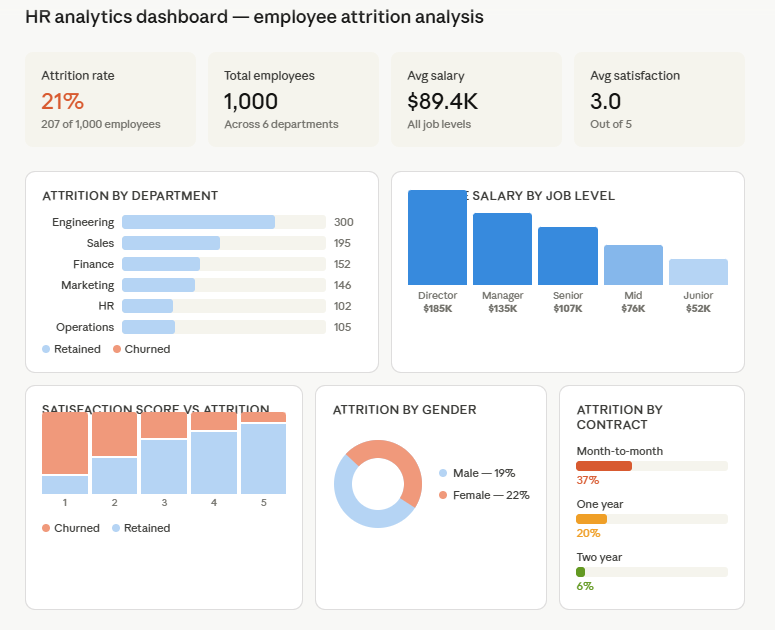

What the dashboard file says about the page in this screenshot:
{"tool":"powerbi","page":{"name":"Page 1","canvas":[1280,720],"ordinal":0},"visuals":[{"type":"cardVisual","title":"   Attrition Rate","fields":{"Data":["Avg(hr_data.attrition)"]},"box":[0,93.3,279.9,150.9],"z":0},{"type":"clusteredBarChart","title":"Attrition by Department","fields":{"Category":["hr_data.department"],"Series":["hr_data.attrition_label"],"Y":["CountNonNull(hr_data.employee_id)"]},"box":[28.8,473.4,529.7,247],"z":1000},{"type":"clusteredColumnChart","title":"Salary by Job Level","fields":{"Category":["hr_data.job_level"],"Y":["Avg(hr_data.salary)"]},"box":[39.8,256.6,518.7,150.9],"z":2000},{"type":"clusteredColumnChart","title":" Satisfaction vs Attrition","fields":{"Category":["hr_data.satisfaction_score"],"Y":["CountNonNull(hr_data.employee_id)"],"Series":["hr_data.attrition_label"]},"box":[623,256.6,557.1,164.7],"z":3000},{"type":"donutChart","title":"Attrition by Gender","fields":{"Category":["hr_data.gender"],"Y":["Avg(hr_data.attrition)"]},"box":[623,473.4,577.7,247],"z":4000},{"type":"textbox","box":[270.3,31.6,994.9,61.7],"z":5000},{"type":"cardVisual","title":"Total Employees","fields":{"Data":["CountNonNull(hr_data.employee_id)"]},"box":[300.5,93.3,279.9,150.9],"z":6000},{"type":"cardVisual","title":"Avg Salary","fields":{"Data":["Avg(hr_data.salary)"]},"box":[623,93.3,279.9,150.9],"z":7000},{"type":"cardVisual","title":"Avg Satisfaction","fields":{"Data":["Avg(hr_data.satisfaction_score)"]},"box":[940,93.3,279.9,150.9],"z":8000}]}

Visuals, with their boxes on the page's 1280x720 design canvas (x1, y1, x2, y2). These are canvas units, not pixel positions in the 775x630 screenshot, which may show the page scaled, cropped or inside an application window:
"   Attrition Rate" cardVisual: bbox(0, 93, 280, 244)
"Attrition by Department" clusteredBarChart: bbox(29, 473, 558, 720)
"Salary by Job Level" clusteredColumnChart: bbox(40, 257, 558, 408)
" Satisfaction vs Attrition" clusteredColumnChart: bbox(623, 257, 1180, 421)
"Attrition by Gender" donutChart: bbox(623, 473, 1201, 720)
textbox: bbox(270, 32, 1265, 93)
"Total Employees" cardVisual: bbox(300, 93, 580, 244)
"Avg Salary" cardVisual: bbox(623, 93, 903, 244)
"Avg Satisfaction" cardVisual: bbox(940, 93, 1220, 244)
